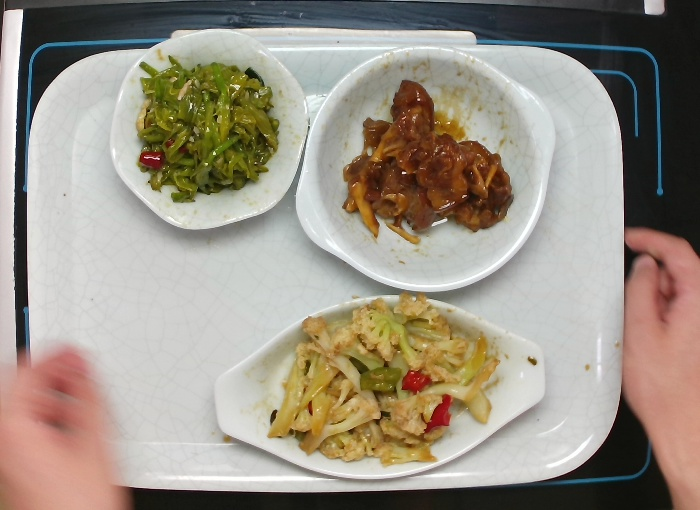JYsf-Shuang_Er_Wan: (291, 40, 561, 295)
JYsf-Yu_Pan: (209, 291, 550, 485)
WCQzf-Hua_Duo_Wan: (105, 26, 310, 232)
